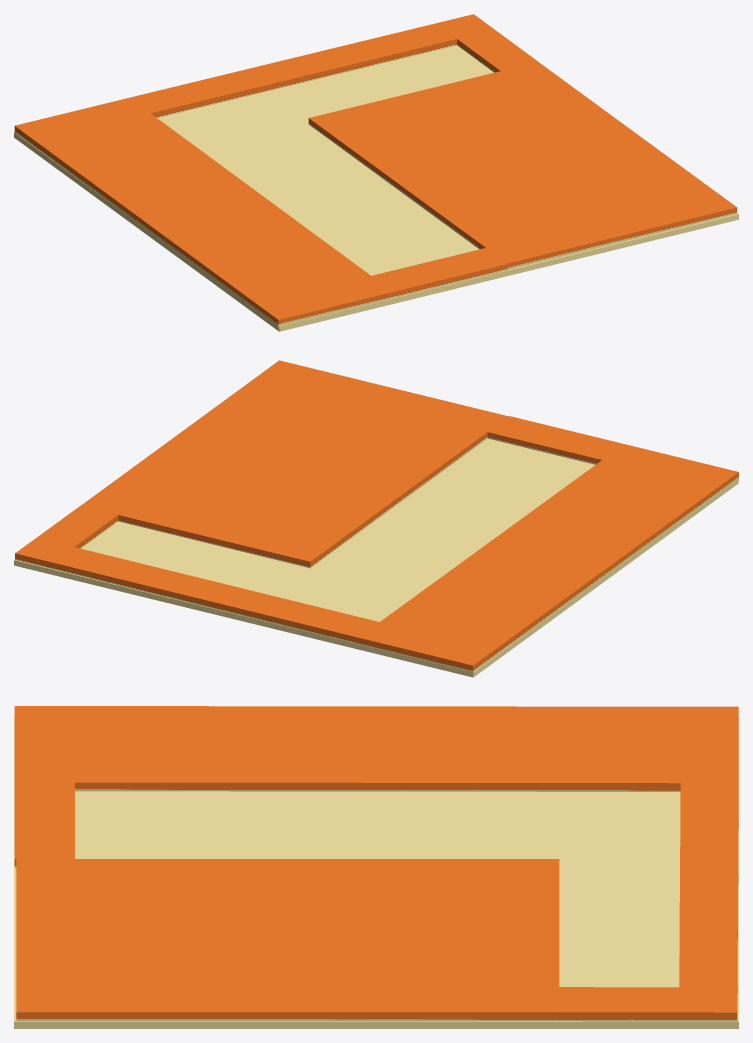
The picture shows the model from 3 angles, top to bottom: view 1: azimuth 30°, elevation 25°; view 2: azimuth 150°, elevation 25°; view 3: azimuth 270°, elevation 25°; orthographic projection. The views are drawn at different scales.
Visible parts, largest first — view 1: Cube.001; view 2: Cube.001; view 3: Cube.001.
Part boxes in pixels (x1,y1,x2,y2): Cube.001: [14, 14, 738, 331]; Cube.001: [14, 360, 738, 677]; Cube.001: [14, 706, 738, 1028].
Size of the model in its own units: 12.02 by 0.2953 by 12.
Materials: 1 (1 with a texture image).
